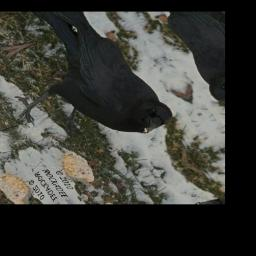Crow: (0, 19, 180, 165)
